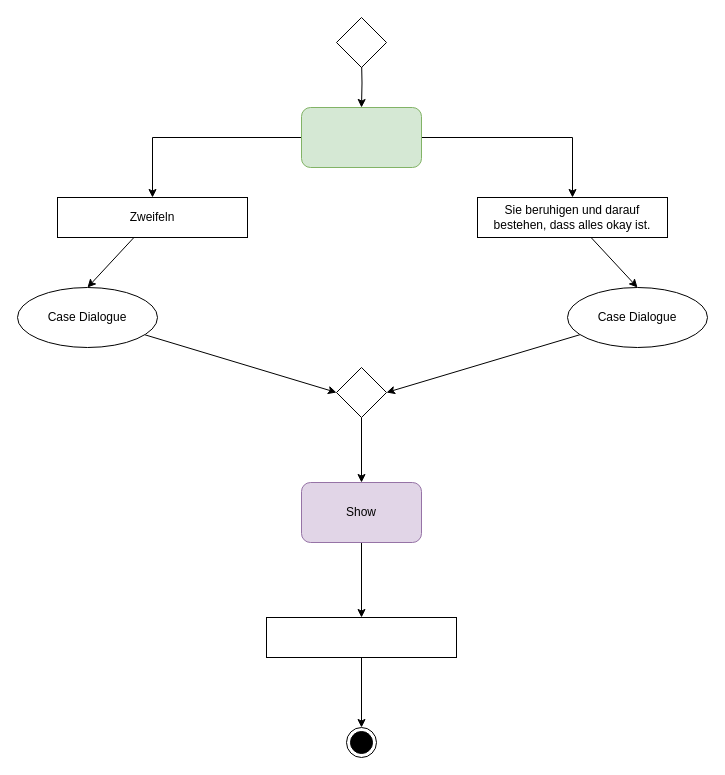
This 725x775 diagram has some shape labels left out. The centre of each missing label's shape, as x and y in pixels:
"At Home" belongs at (361,137).
"Plot" belongs at (361,637).
